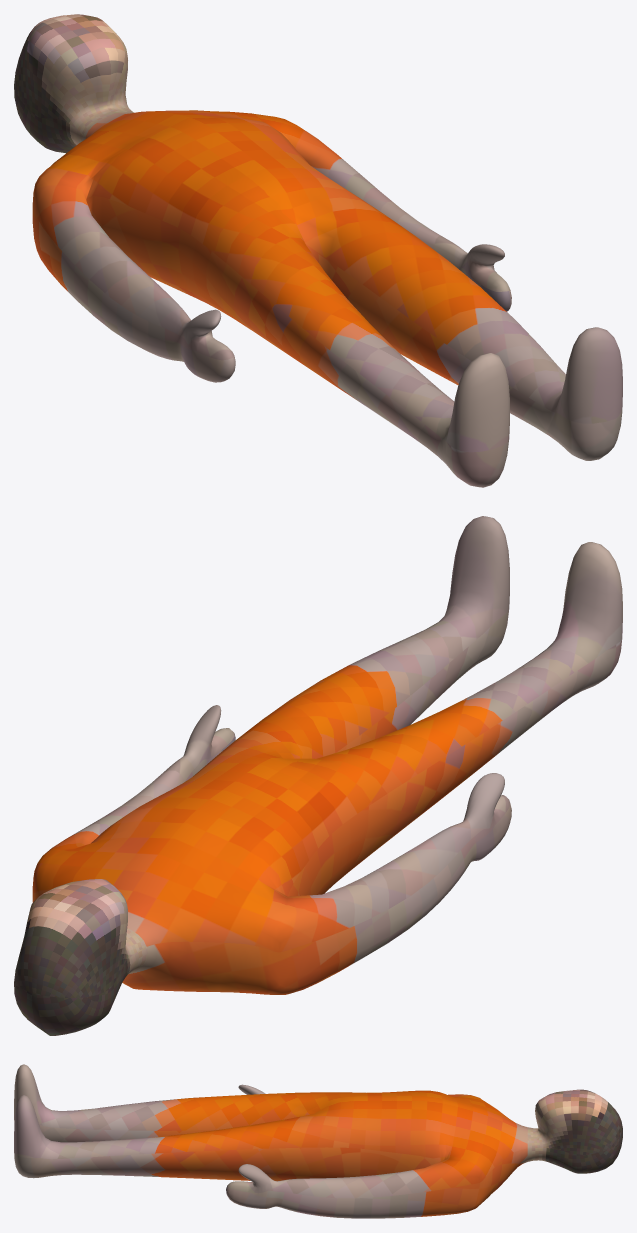
File: Corpse5textiured.glb
3 renders of one model, top to bottom at view 1: azimuth 30°, elevation 25°; view 2: azimuth 150°, elevation 25°; view 3: azimuth 270°, elevation 25°, orthographic. The views are drawn at different scales.
Parts seen in each view (by area): view 1: Cube.001; view 2: Cube.001; view 3: Cube.001.
Boxes of the visible parts, x1=… form: Cube.001: x1=14, y1=14, x2=622, y2=487; Cube.001: x1=14, y1=516, x2=622, y2=1035; Cube.001: x1=14, y1=1064, x2=622, y2=1218.
Bounding box in the file's own units: 2.82 × 1.54 × 8.17.
Materials: 1 (1 with a texture image).
